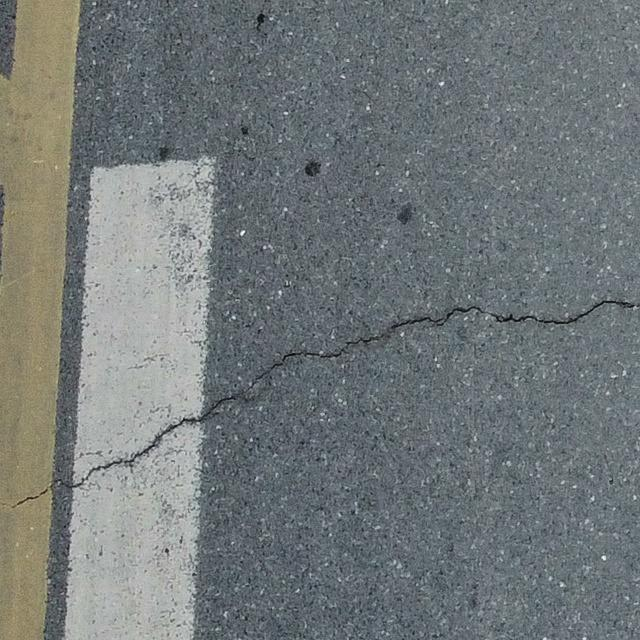TransverseCrack: (2, 300, 640, 510)
